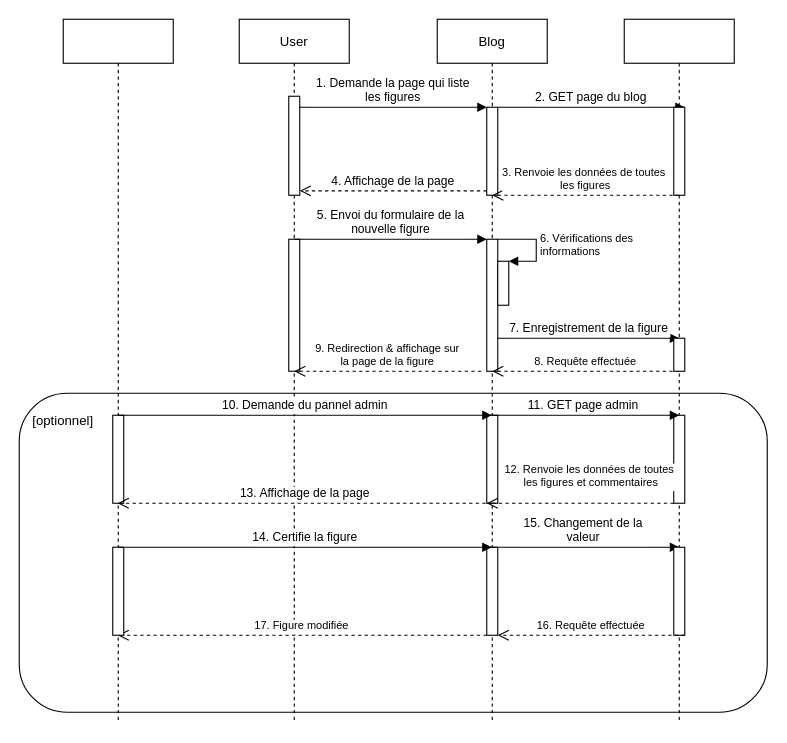
The diagram is 787 pixels wide and 743 high, and some of its shapes have lost their labels. The shapes that lost their labels are listed below. From the top down, each one's box as (x1, y1, x2, y2) in pixels, then its label:
(62, 18, 173, 723): Admin
(623, 18, 734, 723): BDD
